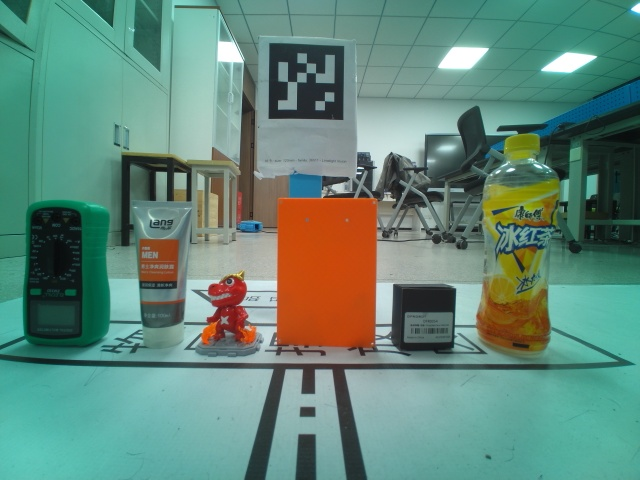banzi: (391, 283, 457, 352)
binghongcha: (197, 269, 264, 357)
dabao: (129, 198, 193, 349)
dianbiao: (474, 133, 560, 360)
hezi: (20, 197, 112, 348)
long: (275, 197, 378, 351)
